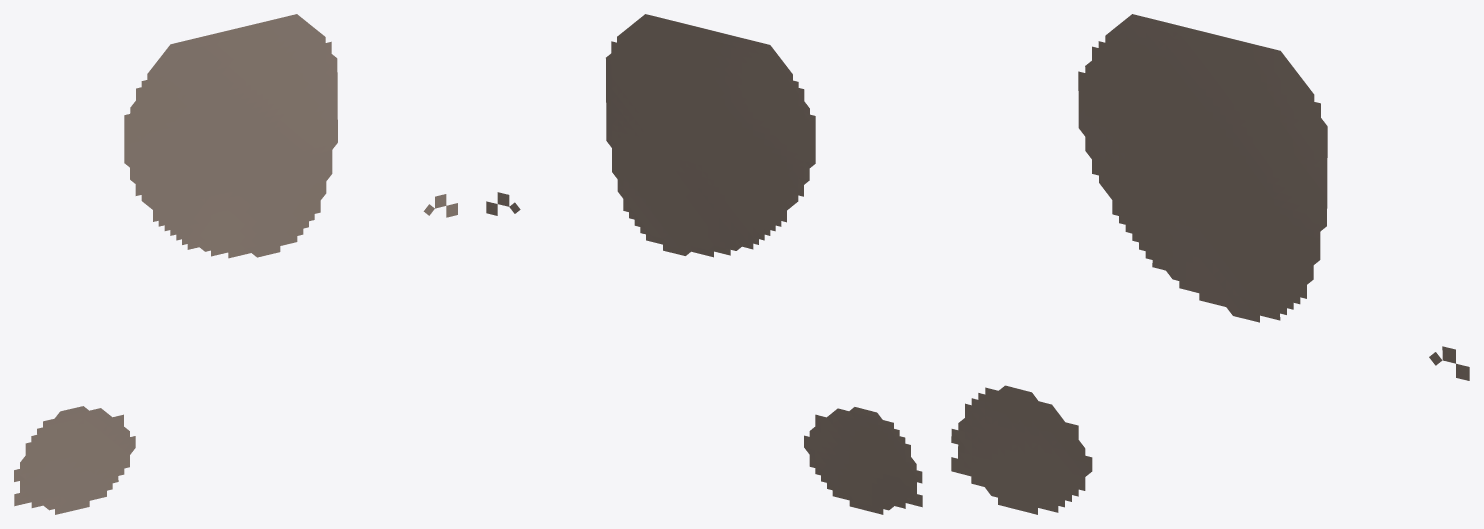
The model's file is L03_shell.glb.
3 views of the same model, side by side, from view 1: azimuth 30°, elevation 25°; view 2: azimuth 150°, elevation 25°; view 3: azimuth 330°, elevation 25° (orthographic). The views are drawn at different scales.
Visible parts, largest first — view 1: world; view 2: world; view 3: world.
Part boxes in pixels (box(x1,y1,x2,y2)): world: box(14, 14, 457, 514); world: box(486, 14, 922, 514); world: box(951, 14, 1469, 514).
Size of the model in its own units: 7700 by 7400 by 96.98.
